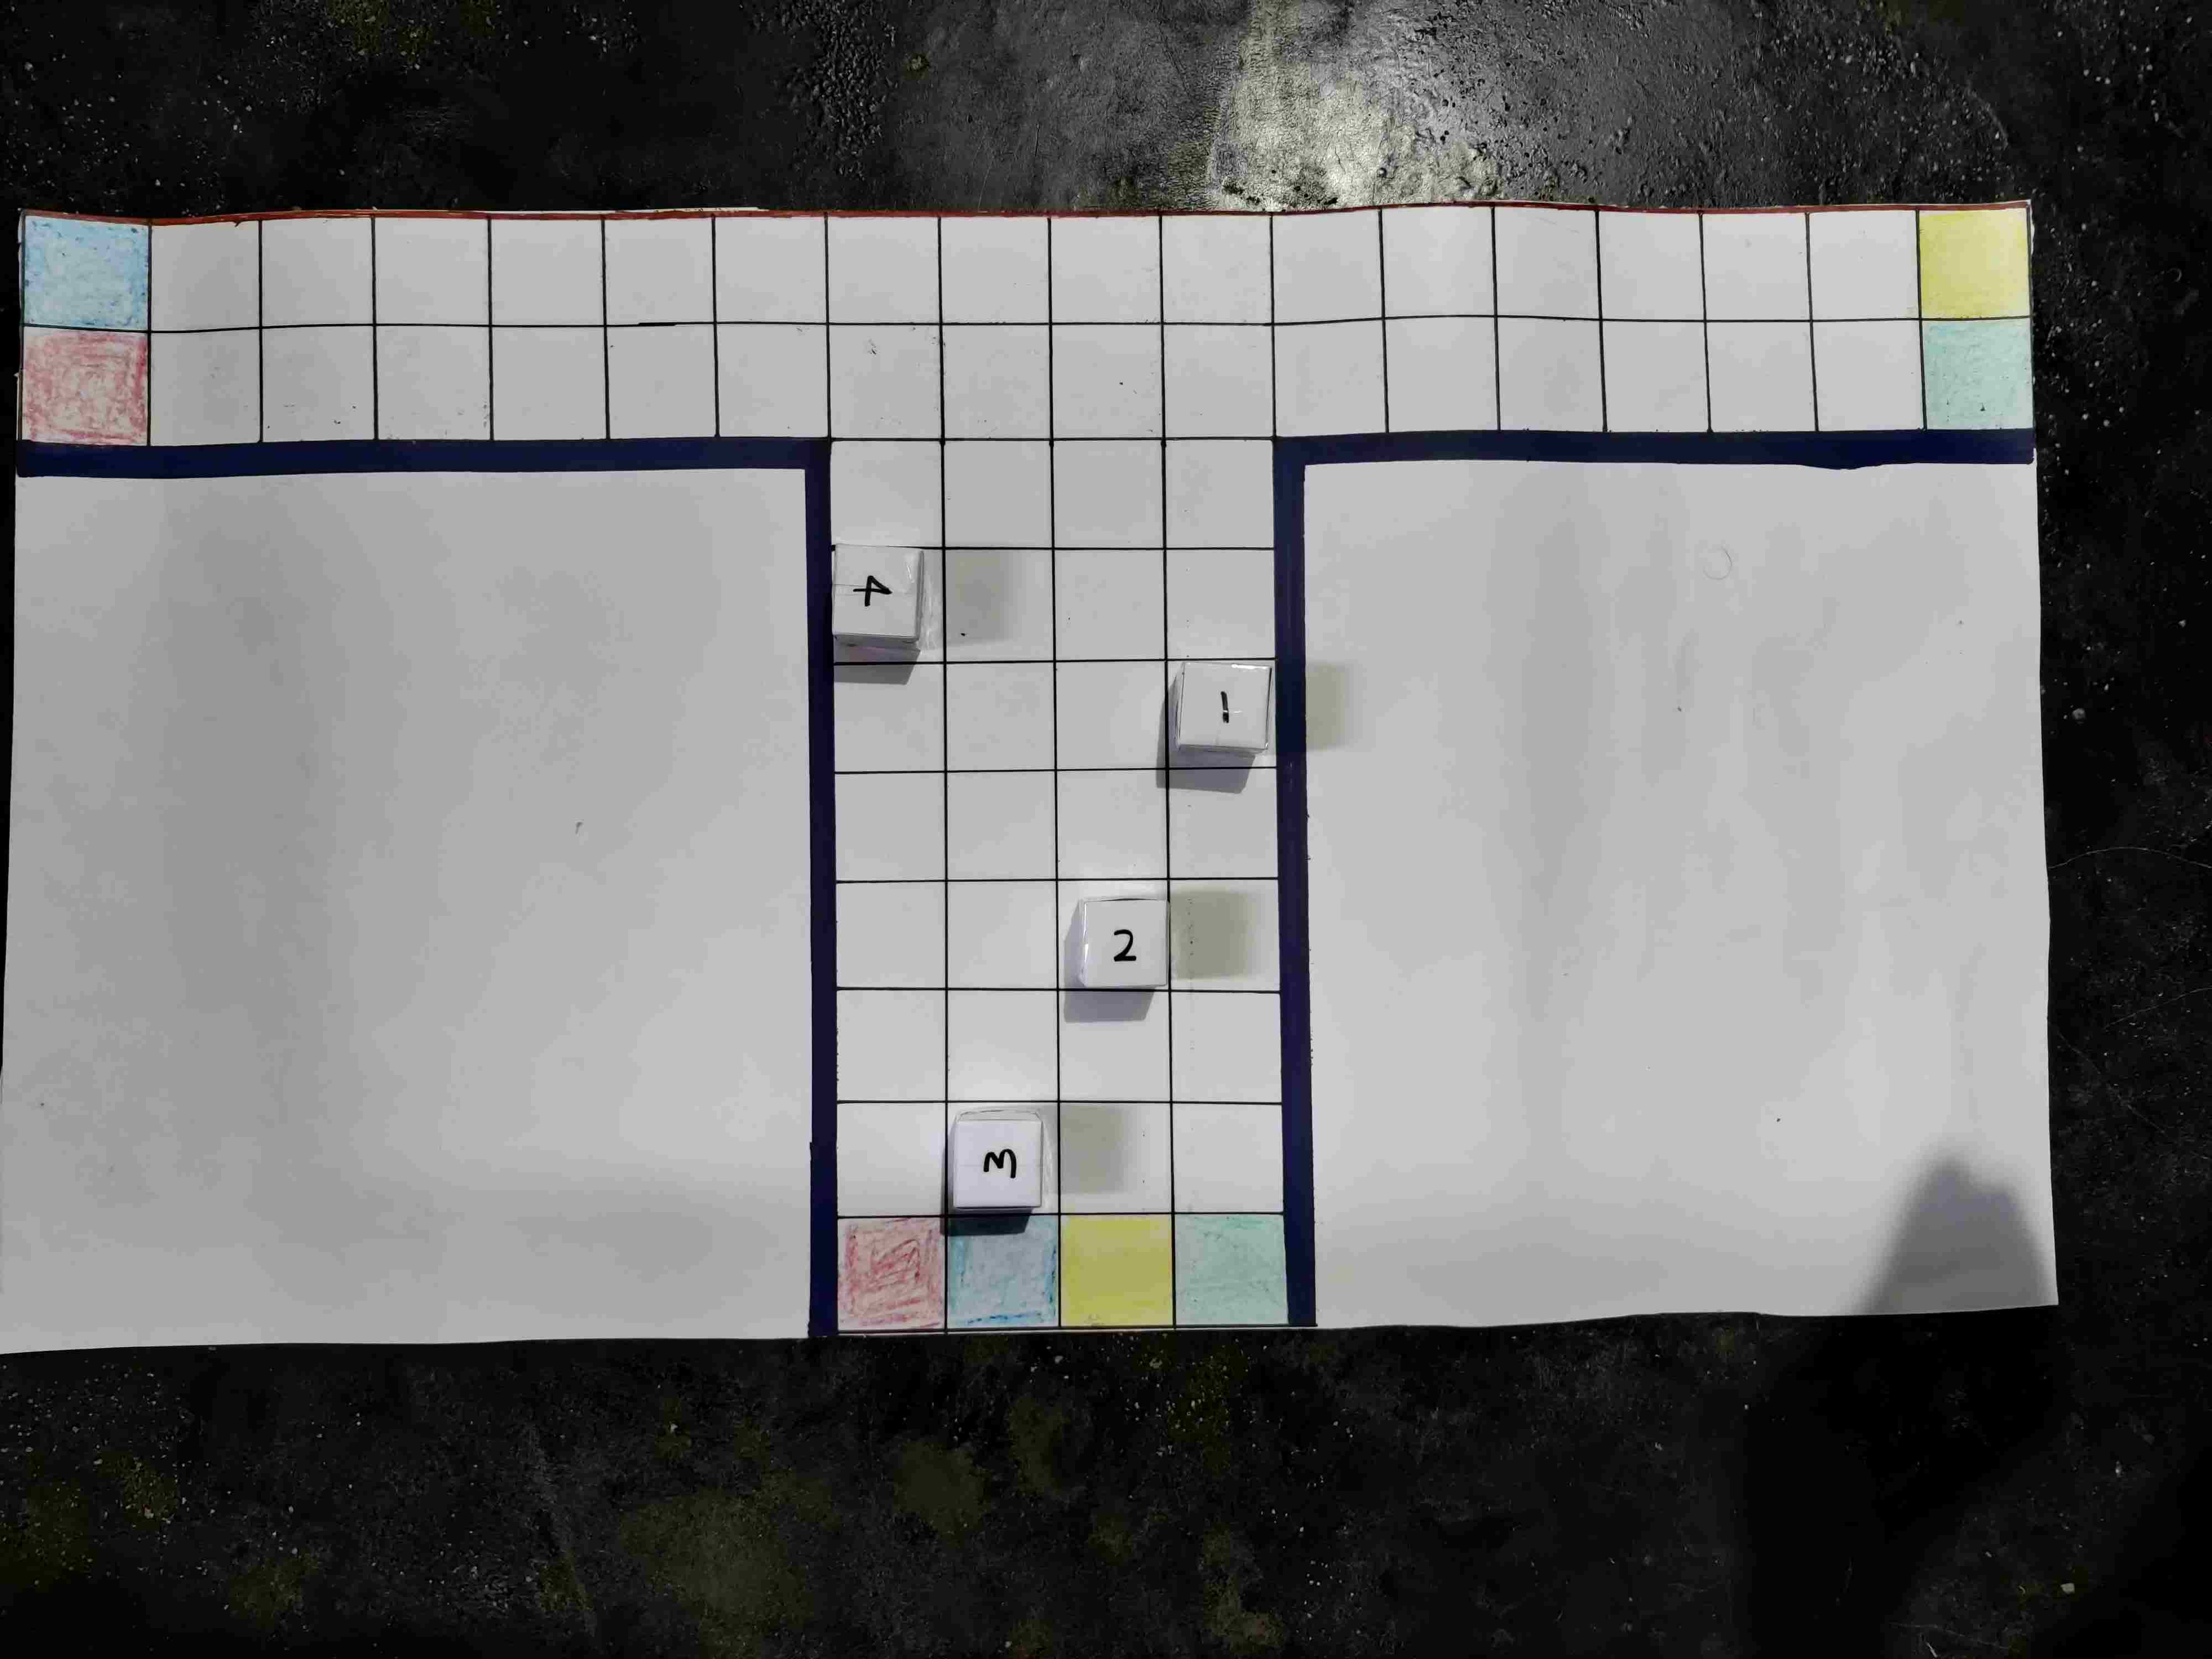arena: (87, 324, 2104, 1415)
bot: (1984, 1202, 2080, 1297), (941, 525, 1031, 615), (840, 390, 927, 481), (1069, 861, 1151, 941)
